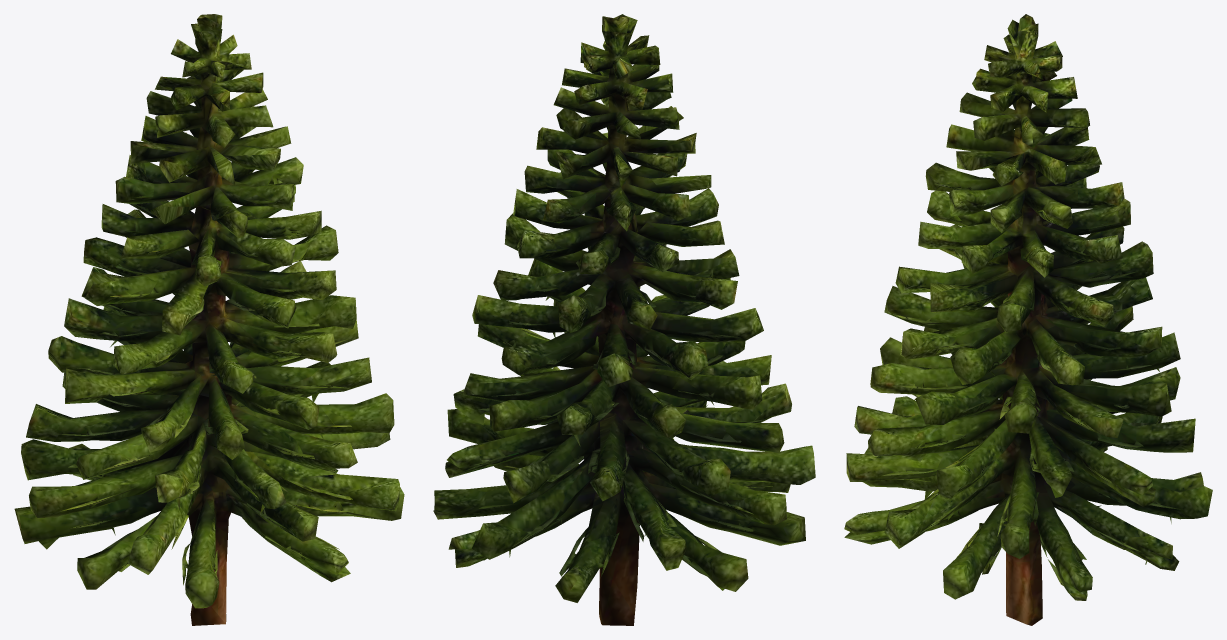
The model's file is pine.glb.
3 views of the same model, side by side, from view 1: azimuth 30°, elevation 25°; view 2: azimuth 150°, elevation 25°; view 3: azimuth 270°, elevation 25° (orthographic).
Visible parts, largest first — view 1: tripo_node_a38f01b0-4ef5-4726-91a8-b51ed100a0c5; view 2: tripo_node_a38f01b0-4ef5-4726-91a8-b51ed100a0c5; view 3: tripo_node_a38f01b0-4ef5-4726-91a8-b51ed100a0c5.
Boxes of the visible parts, x1,y1,x2,y2 form: tripo_node_a38f01b0-4ef5-4726-91a8-b51ed100a0c5: [14, 14, 404, 625]; tripo_node_a38f01b0-4ef5-4726-91a8-b51ed100a0c5: [433, 14, 815, 625]; tripo_node_a38f01b0-4ef5-4726-91a8-b51ed100a0c5: [844, 14, 1212, 625].
Bounding box in the file's own units: 0.5967 × 0.9969 × 0.5554.
Materials: 1 (1 with a texture image).
